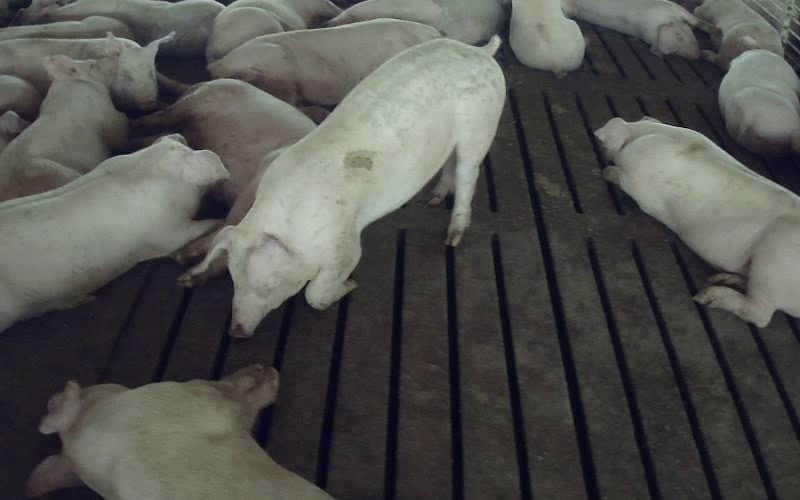pig: (198, 37, 504, 335), (0, 135, 228, 331), (595, 117, 799, 326), (27, 365, 331, 499), (132, 79, 315, 224), (208, 18, 440, 105), (0, 56, 126, 200), (0, 32, 173, 110), (42, 0, 224, 57), (719, 49, 799, 156), (206, 0, 341, 62), (562, 0, 702, 58), (329, 0, 505, 44), (694, 0, 783, 70), (509, 0, 584, 76)
